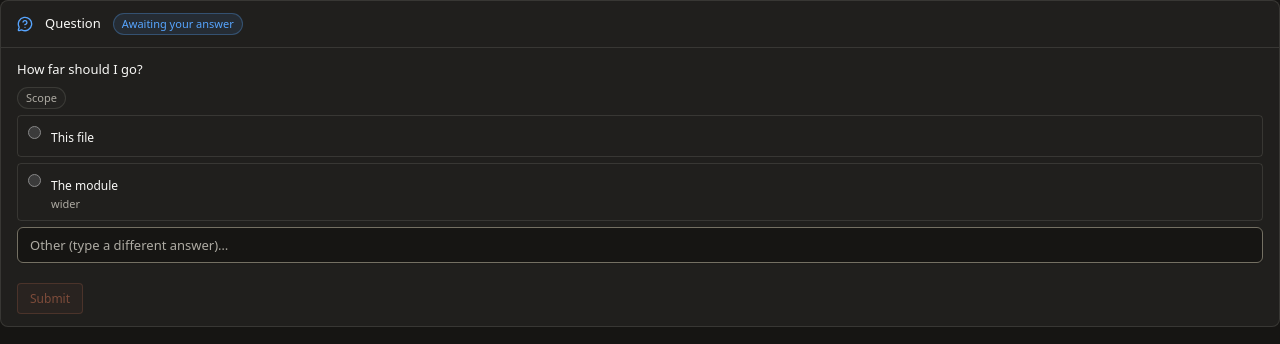
QuestionCard — confirms honestly what happened to the answer › delivery run — the waiting agent received it
Click the text "This file": (73, 138) top-left (51, 129), bottom-right (94, 146)
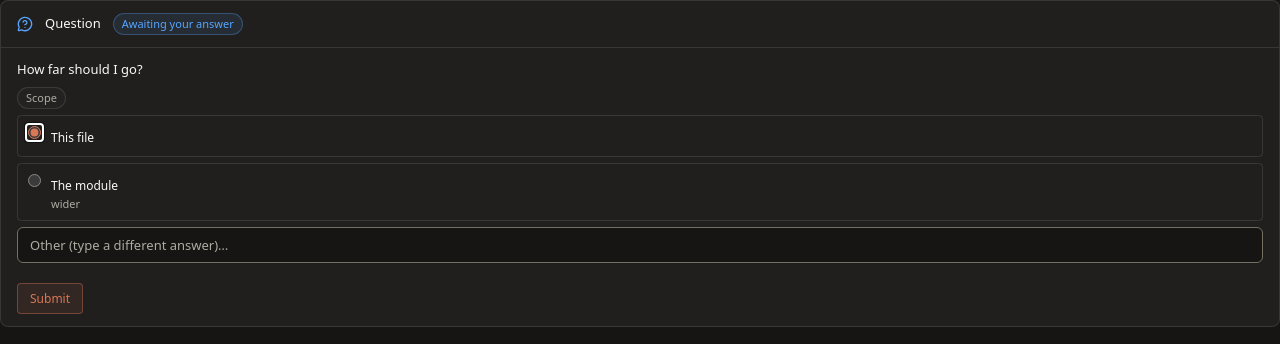
Click the button "Submit": (50, 298) top-left (17, 282), bottom-right (83, 314)
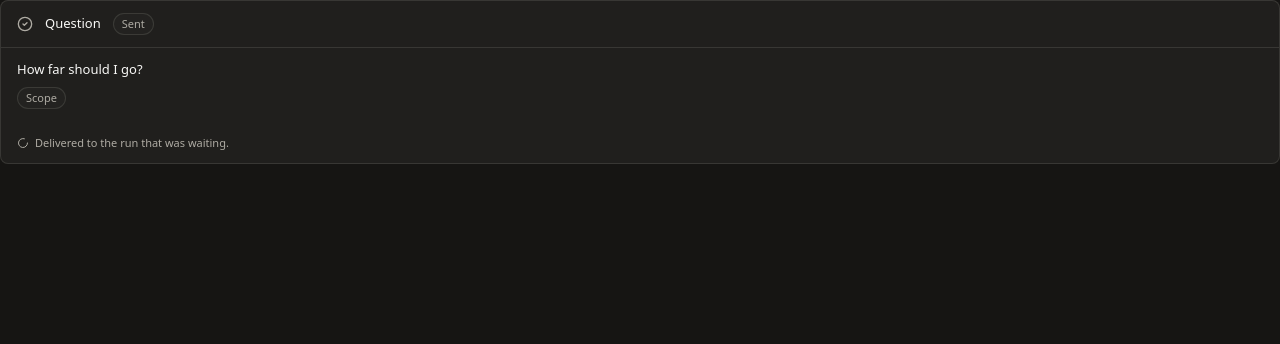
Expected: the text "Delivered to the run that was waiting." is shown, top-left (17, 135), bottom-right (229, 150)
Expected: the text "Sent" is shown, top-left (113, 13), bottom-right (154, 35)
